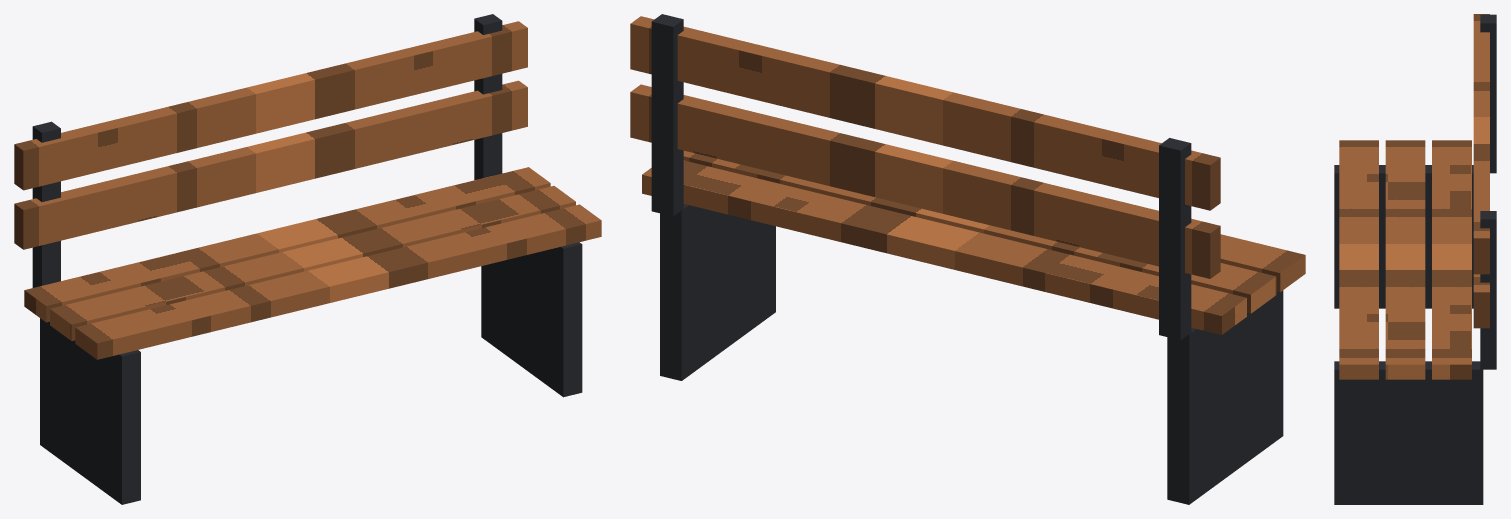
Rendered from bench.glb.
3 renders of one model, left to right at view 1: azimuth 30°, elevation 25°; view 2: azimuth 150°, elevation 25°; view 3: azimuth 270°, elevation 25°, orthographic. The views are drawn at different scales.
Parts seen in each view (by area): view 1: bench; view 2: bench; view 3: bench.
Boxes of the visible parts, x1,y1,x2,y2 form: bench: (14, 14, 601, 504); bench: (630, 14, 1305, 504); bench: (1334, 14, 1496, 504).
Bounding box in the file's own units: 1.6 × 0.95 × 0.49.
Materials: 2 (1 with a texture image).
